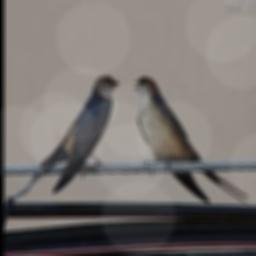Swallow: (133, 77, 250, 203), (13, 75, 120, 200)
